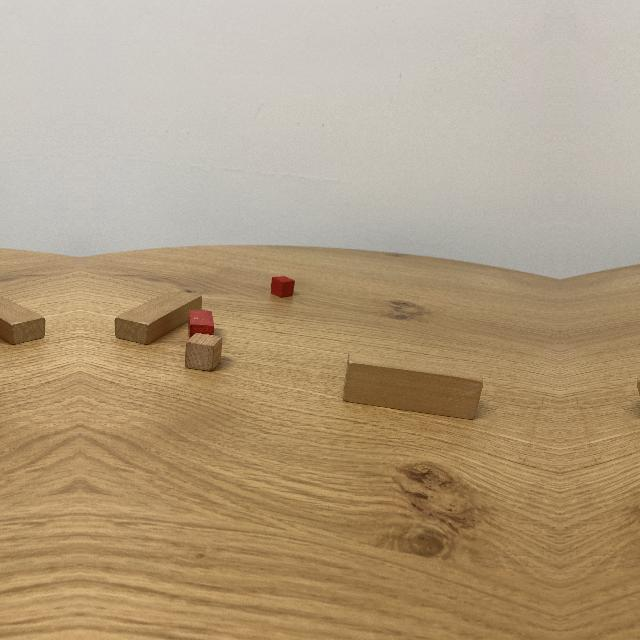cube: (185, 332, 222, 371)
jenga: (342, 352, 485, 419), (115, 290, 202, 345), (0, 296, 45, 345)
red cube: (188, 309, 214, 339), (270, 276, 295, 298)
